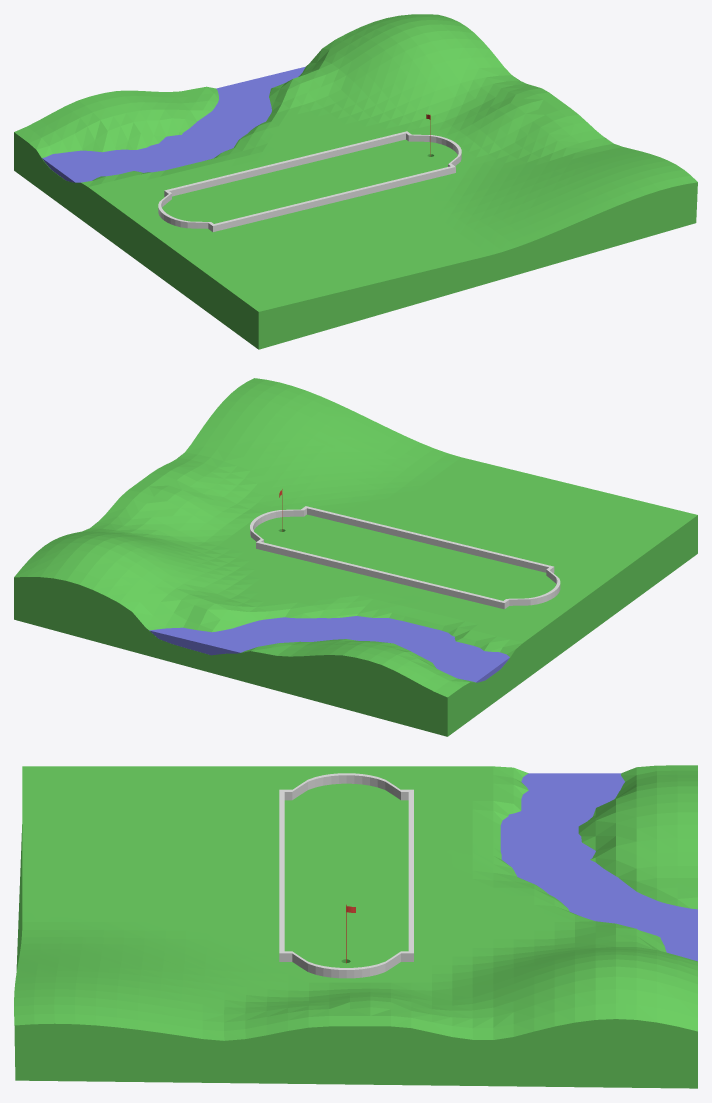
Rendered from CanchaTamañoBien(espero).fbx.
3 views of the same model, one above another, from view 1: azimuth 30°, elevation 25°; view 2: azimuth 150°, elevation 25°; view 3: azimuth 270°, elevation 25° (orthographic). The views are drawn at different scales.
Parts seen in each view (by area): view 1: Cube, Cube.003; view 2: Cube, Cube.003; view 3: Cube, Cube.003.
Part boxes in pixels (x1,y1,x2,y2): Cube: (14,14,697,349); Cube.003: (158,131,461,231); Cube: (14,378,697,736); Cube.003: (250,506,560,609); Cube: (14,765,697,1088); Cube.003: (279,773,413,978).
Size of the model in its own units: 3561 by 613 by 3496.
